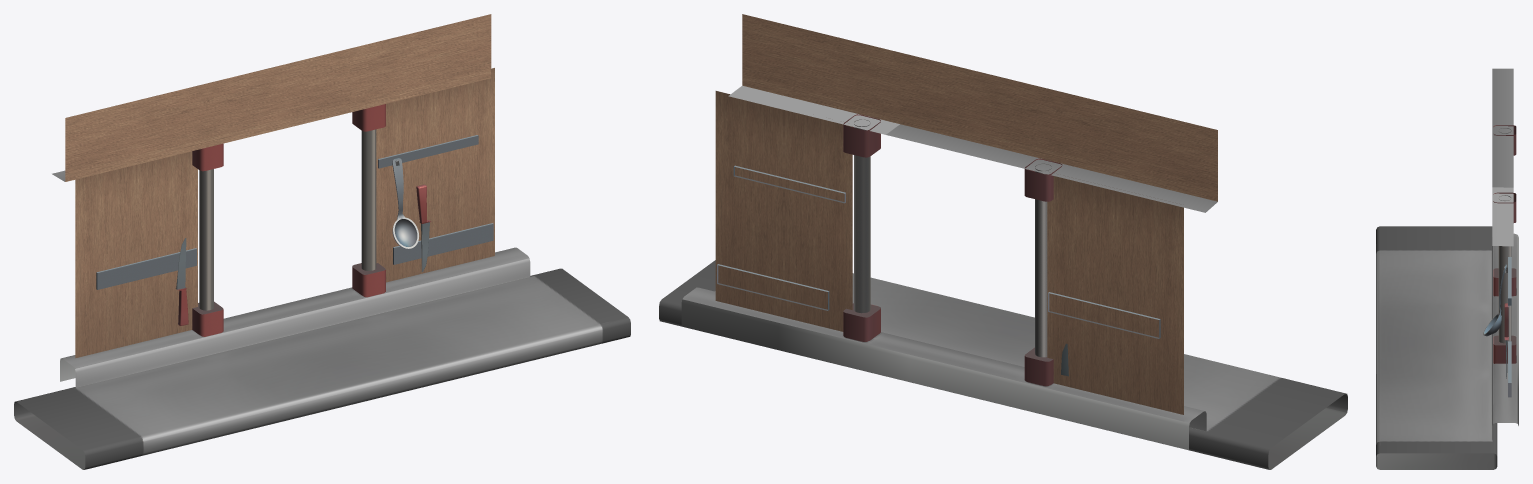
Rendered from interior_5.fbx.
3 renders of one model, left to right at view 1: azimuth 30°, elevation 25°; view 2: azimuth 150°, elevation 25°; view 3: azimuth 270°, elevation 25°, orthographic. The views are drawn at different scales.
Visible parts, largest first — view 1: Cube.033, Cube.031, Cube.021, Cube.032, Cylinder.008, Cube.022, Cube.025, Cube.034, Cube.023, spoon.001, Cube.024, Knife (+1 smaller); view 2: Cube.031, Cube.021, Cube.033, Cube.032, Cylinder.008, Cube.022, Cube.023; view 3: Cube.033, Cube.021, Cube.032, Cylinder.008, Cube.022, Cube.023, spoon.001, Knife, Cube.034, Cube.024.
Boxes of the visible parts, <box> form: Cube.033: <box>14,268,630,469</box>; Cube.031: <box>75,68,494,358</box>; Cube.021: <box>52,14,491,181</box>; Cube.032: <box>60,247,530,387</box>; Cylinder.008: <box>199,129,376,310</box>; Cube.022: <box>192,263,385,336</box>; Cube.025: <box>96,248,196,289</box>; Cube.034: <box>393,223,493,264</box>; Cube.023: <box>192,104,385,171</box>; spoon.001: <box>392,158,418,248</box>; Cube.024: <box>378,135,478,168</box>; Knife: <box>416,184,430,271</box>; Cube.031: <box>715,91,1183,414</box>; Cube.021: <box>728,14,1217,212</box>; Cube.033: <box>659,260,1347,469</box>; Cube.032: <box>681,287,1206,450</box>; Cylinder.008: <box>854,119,1051,357</box>; Cube.022: <box>843,303,1053,386</box>; Cube.023: <box>843,114,1062,201</box>; Cube.033: <box>1376,226,1497,469</box>; Cube.021: <box>1492,68,1513,246</box>; Cube.032: <box>1492,233,1518,425</box>; Cylinder.008: <box>1498,128,1511,343</box>; Cube.022: <box>1493,268,1516,363</box>; Cube.023: <box>1493,125,1516,222</box>; spoon.001: <box>1483,264,1506,336</box>; Knife: <box>1504,303,1508,378</box>; Cube.034: <box>1508,341,1511,397</box>; Cube.024: <box>1504,257,1511,305</box>.
Size of the model in its own units: 5.44 by 2.78 by 1.45.
